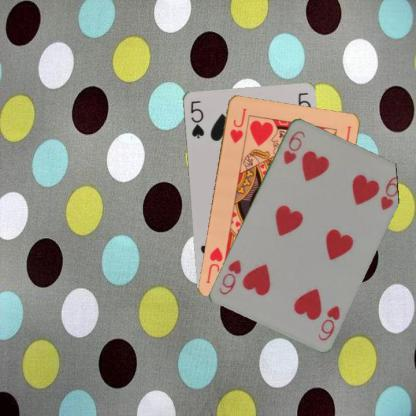5s: (187, 98, 205, 139)
6h: (315, 303, 341, 342), (280, 128, 306, 165)
Jh: (227, 105, 248, 144)
